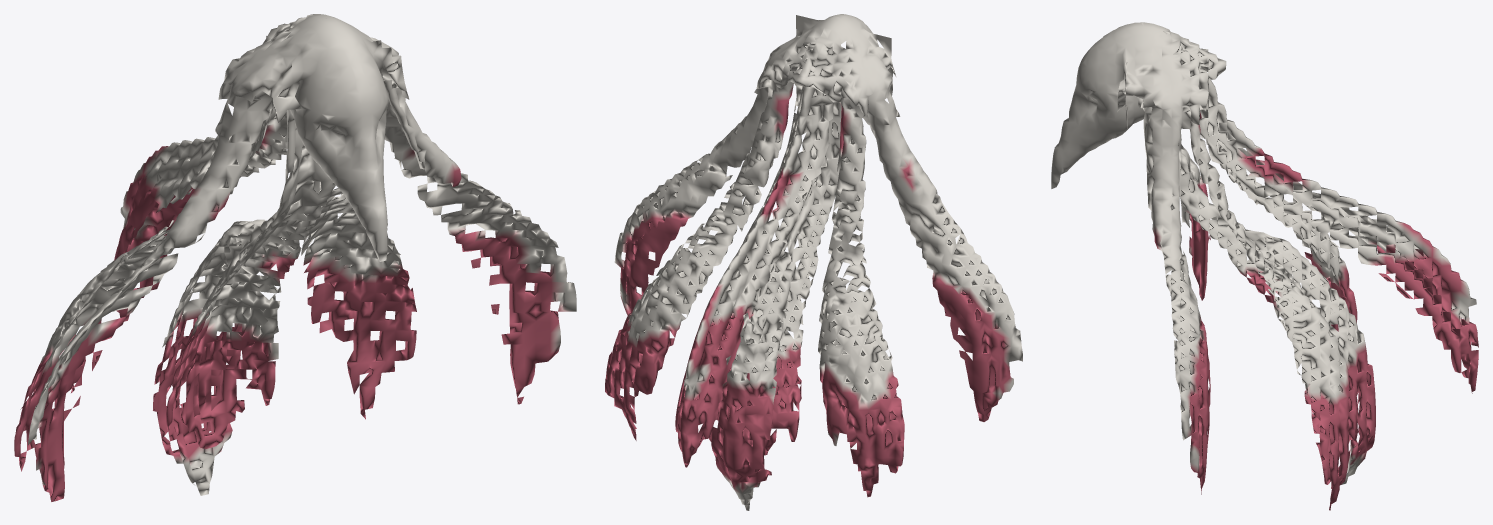
The model's file is mon3d_lo.glb.
3 renders of one model, left to right at view 1: azimuth 30°, elevation 25°; view 2: azimuth 150°, elevation 25°; view 3: azimuth 270°, elevation 25°, orthographic. The views are drawn at different scales.
Bounding box in the file's own units: 1.94 × 1.94 × 1.61.
